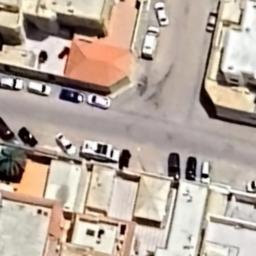SUV: (85, 92, 115, 110), (0, 75, 25, 92)
pickup: (142, 25, 160, 61)
sedan: (50, 130, 78, 157), (151, 0, 174, 28), (163, 150, 184, 180), (17, 124, 41, 150), (0, 113, 16, 143), (185, 154, 198, 184), (118, 146, 132, 171), (205, 8, 218, 34)
truck: (80, 138, 120, 165)
van: (23, 80, 54, 98), (58, 86, 86, 105), (200, 160, 212, 186), (243, 177, 256, 194)
